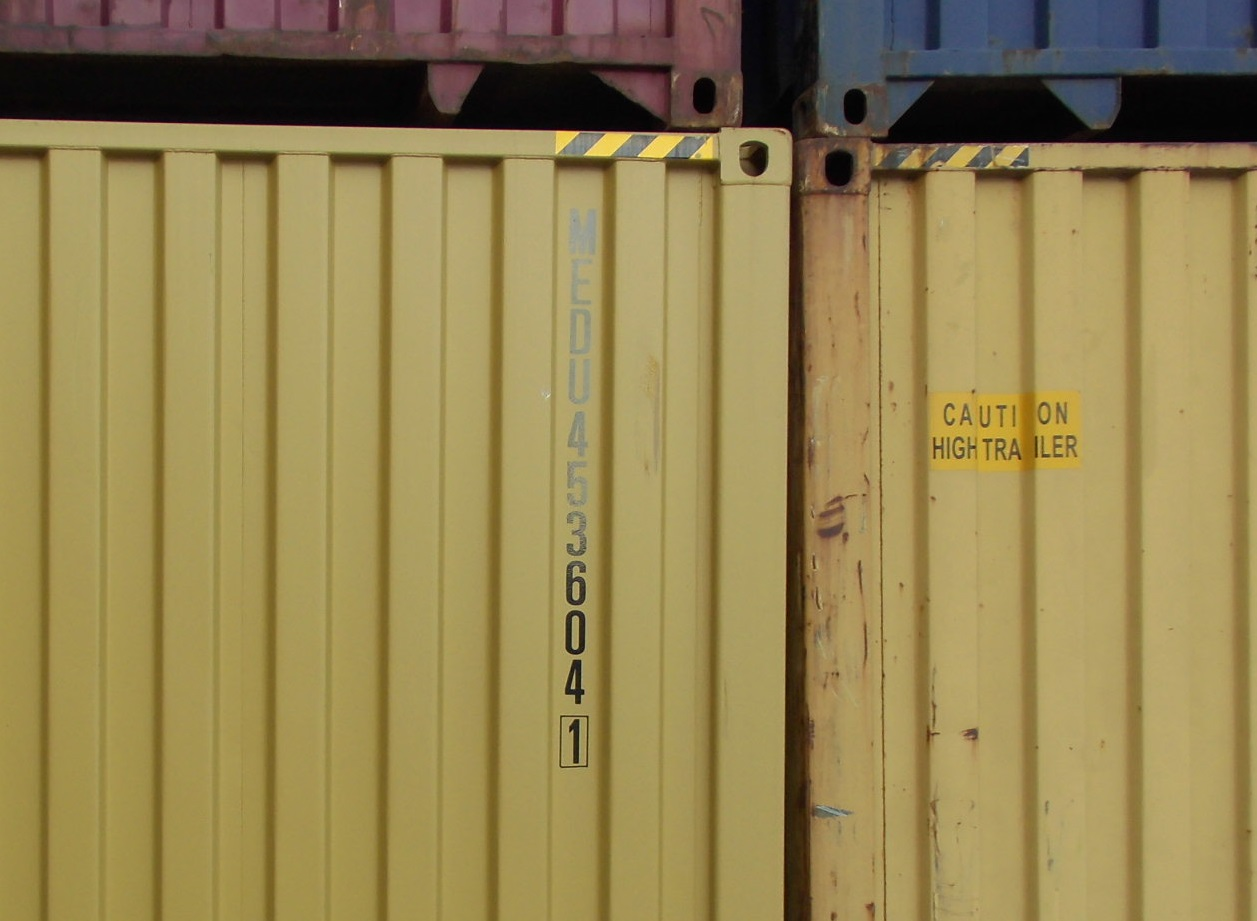container_no_door: (3, 111, 790, 920), (807, 133, 1257, 916)
